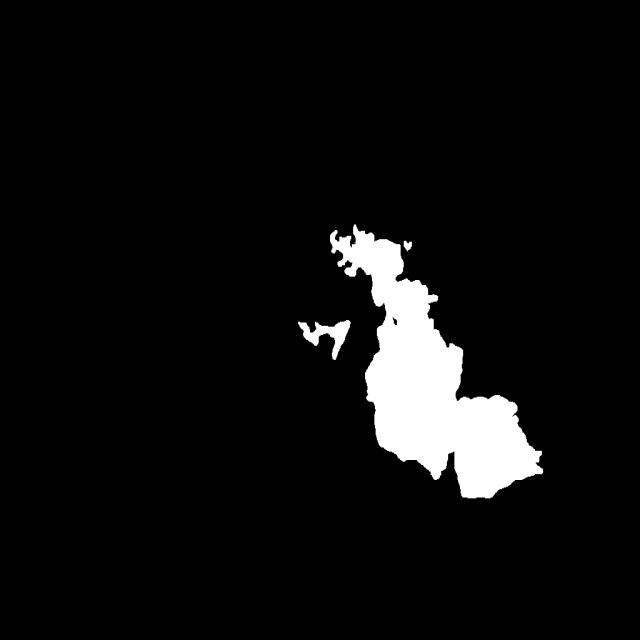fire: (270, 200, 544, 558)
